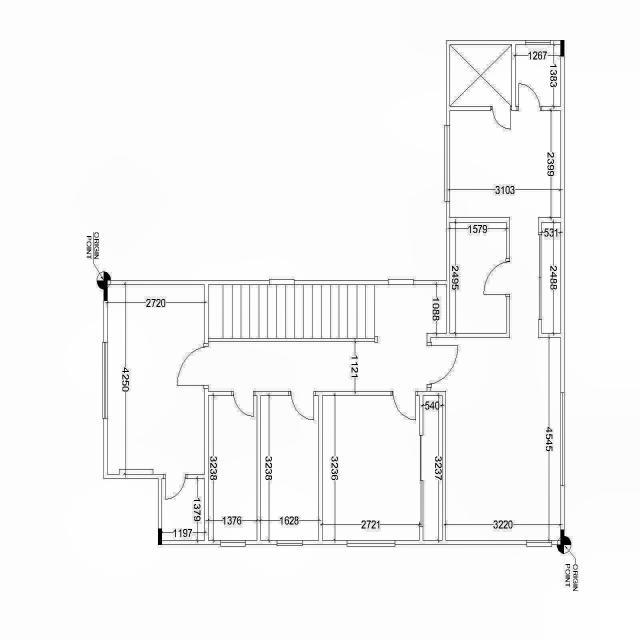Column: (104, 280, 108, 302), (560, 40, 565, 56), (560, 529, 565, 545), (158, 528, 162, 546)
Door: (427, 342, 458, 388), (177, 344, 209, 388), (484, 258, 511, 298), (390, 391, 418, 420), (288, 391, 316, 420), (517, 84, 542, 112), (232, 391, 256, 417), (164, 474, 188, 499), (490, 106, 512, 130)
Sliding Door: (419, 435, 423, 527), (538, 234, 542, 320)
Staircase: (208, 285, 374, 338)
Window: (102, 342, 108, 418), (560, 392, 564, 486), (525, 40, 550, 45)
